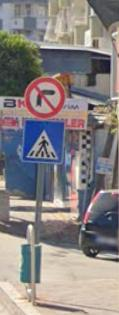rightturnsareforbidden: (24, 75, 66, 120)
